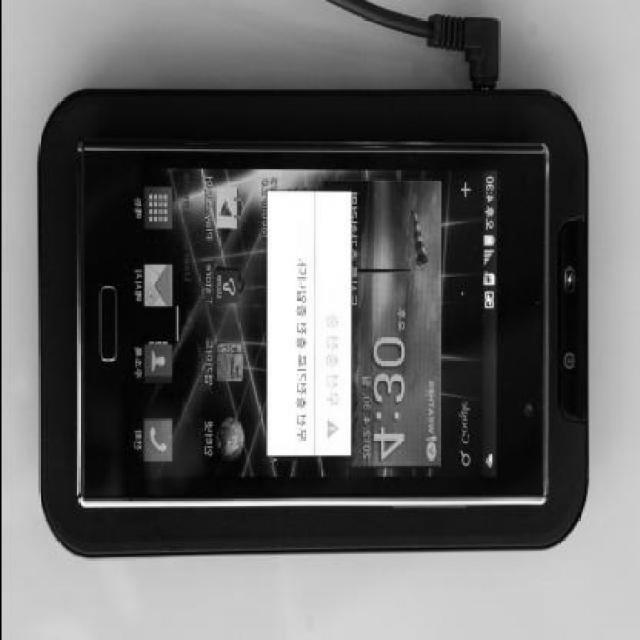fake: (42, 88, 584, 558)
